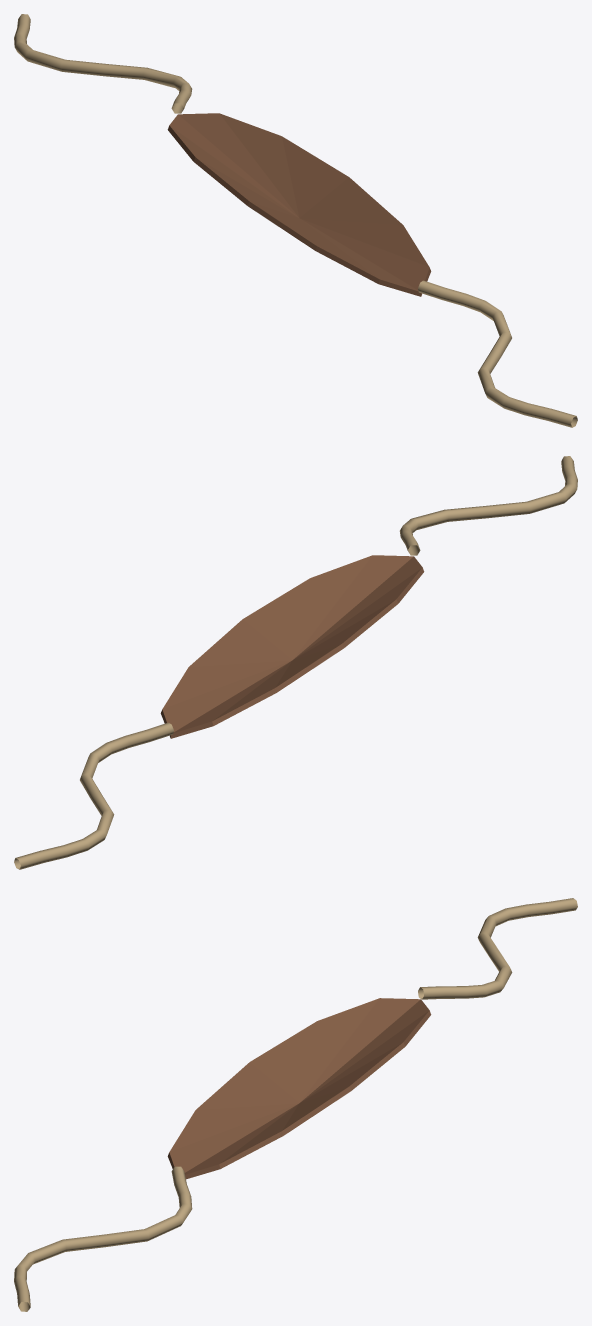
The model's file is sling-long-pouch.glb.
3 views of the same model, one above another, from view 1: azimuth 30°, elevation 25°; view 2: azimuth 150°, elevation 25°; view 3: azimuth 330°, elevation 25° (orthographic).
Parts seen in each view (by area): view 1: sling-long-pouch runtime mesh; view 2: sling-long-pouch runtime mesh; view 3: sling-long-pouch runtime mesh.
Part boxes in pixels (x1,y1,x2,y2): sling-long-pouch runtime mesh: [14, 14, 577, 427]; sling-long-pouch runtime mesh: [14, 456, 577, 869]; sling-long-pouch runtime mesh: [14, 898, 577, 1311].
Bounding box in the file's own units: 0.0939 × 0.0315 × 0.8645.
